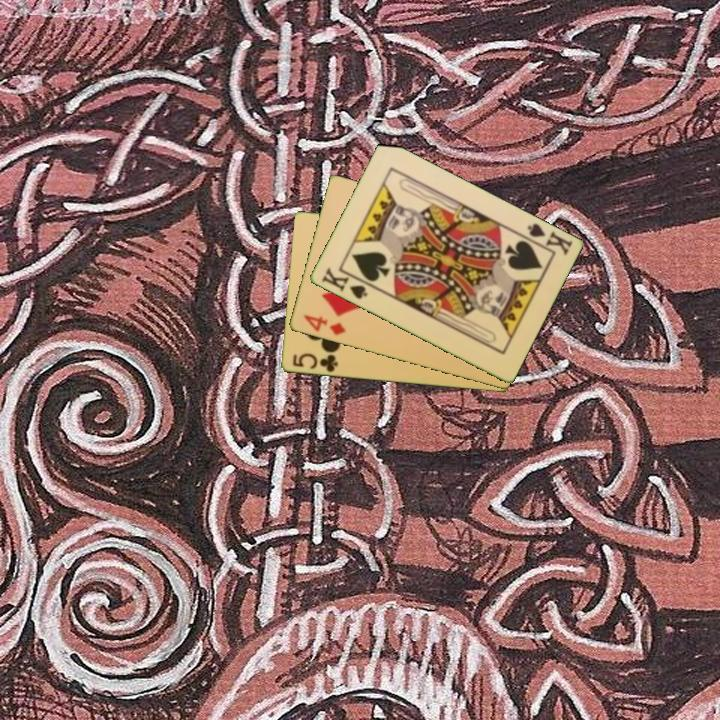4d: (300, 311, 348, 338)
5c: (289, 350, 341, 375)
Ks: (518, 220, 575, 258), (318, 264, 374, 302)
